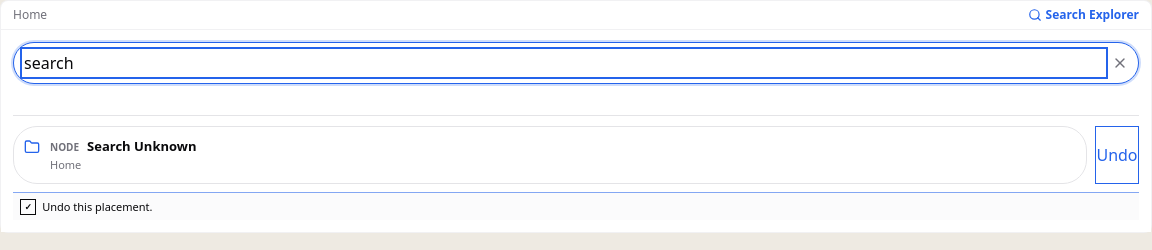
HierarchyExplorer Task 158 search-result Undo › retains the exact result through unknown and exposes read-only reconciliation
Click the button with aria-label "Undo placement of Search Unknown".
click(1117, 155)  # box [1095,126,1139,184]
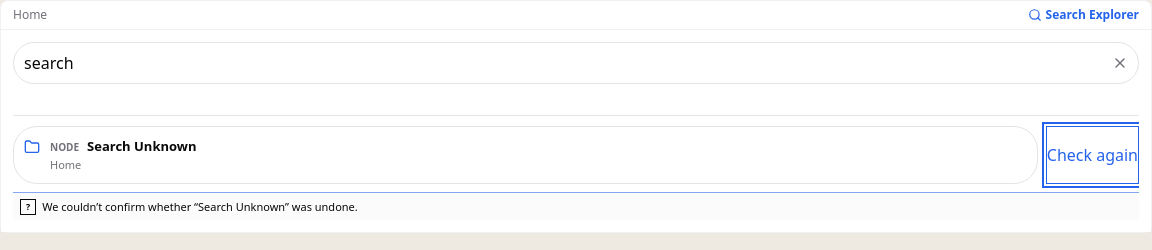
Expected: the button "Node Search Unknown Home" is shown, [13,126,1038,184]
Now the text "We couldn’t confirm whether “Search Unknown” was undone." is shown, box [42,199,358,214]
